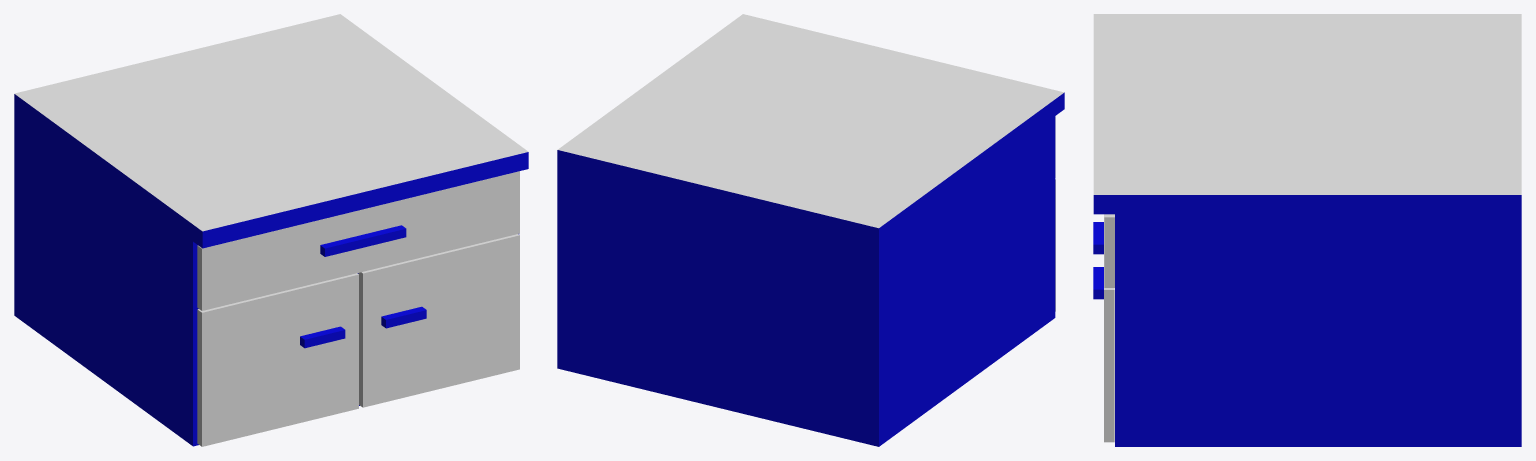
Rendered from c_1drawer_2doors.fbx.
3 renders of one model, left to right at view 1: azimuth 30°, elevation 25°; view 2: azimuth 150°, elevation 25°; view 3: azimuth 270°, elevation 25°, orthographic. The views are drawn at different scales.
Visible parts, largest first — view 1: pCube131, pCube82, polySurface35, polySurface42, polySurface38; view 2: pCube82, pCube131; view 3: pCube82, pCube131, polySurface42, polySurface38.
Part boxes in pixels (x1=…): pCube131: x1=14, y1=14, x2=528, y2=248; pCube82: x1=14, y1=111, x2=519, y2=446; polySurface35: x1=197, y1=273, x2=358, y2=446; polySurface42: x1=358, y1=234, x2=519, y2=407; polySurface38: x1=197, y1=171, x2=519, y2=310; pCube82: x1=557, y1=116, x2=1055, y2=446; pCube131: x1=557, y1=14, x2=1064, y2=244; pCube82: x1=1115, y1=214, x2=1521, y2=446; pCube131: x1=1093, y1=14, x2=1521, y2=214; polySurface42: x1=1093, y1=214, x2=1114, y2=442; polySurface38: x1=1104, y1=214, x2=1114, y2=287.
Bounding box in the file's own units: 200 × 130 × 200.
